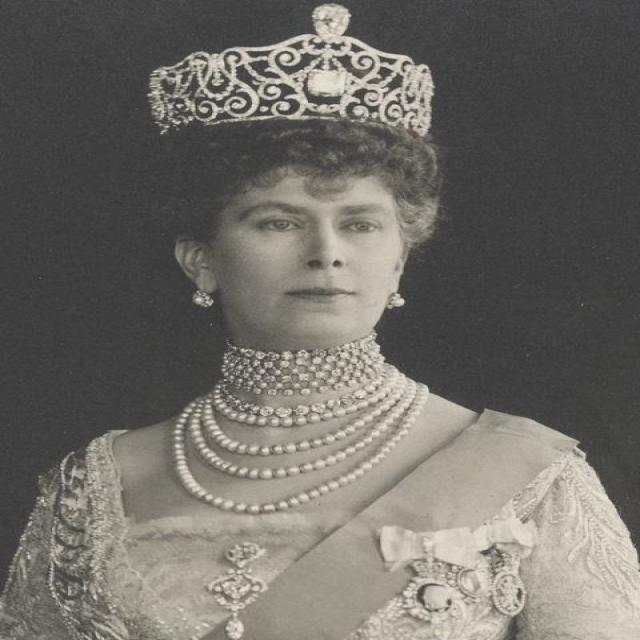Earring: (184, 276, 220, 322), (380, 280, 412, 322)
